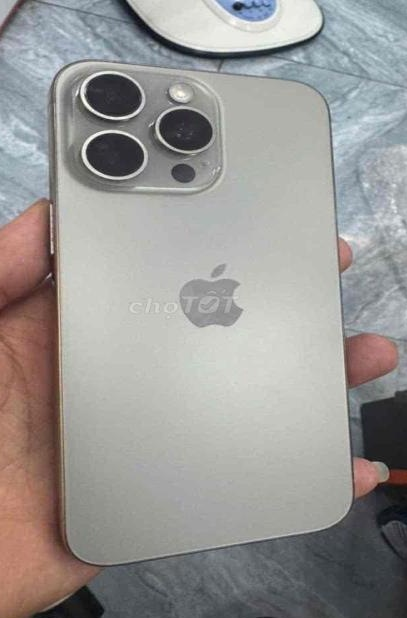scratch: (209, 163, 224, 177)
